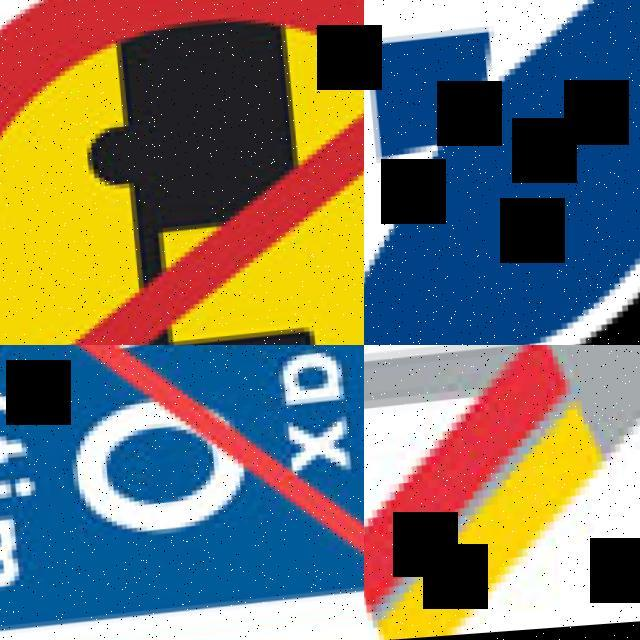103: (0, 345, 364, 640)
46: (0, 0, 364, 345)
62: (364, 345, 640, 640)
Direction to be followed: (364, 0, 640, 345)
